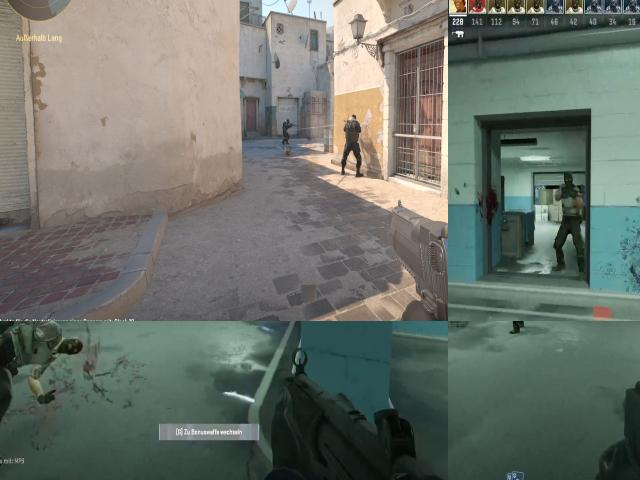CT: (345, 114, 361, 172), (283, 118, 291, 141)
CT-Head: (351, 115, 357, 120), (286, 118, 290, 123)
Dead: (0, 321, 88, 430)
T: (554, 171, 588, 230)
T-Head: (555, 172, 578, 198)
